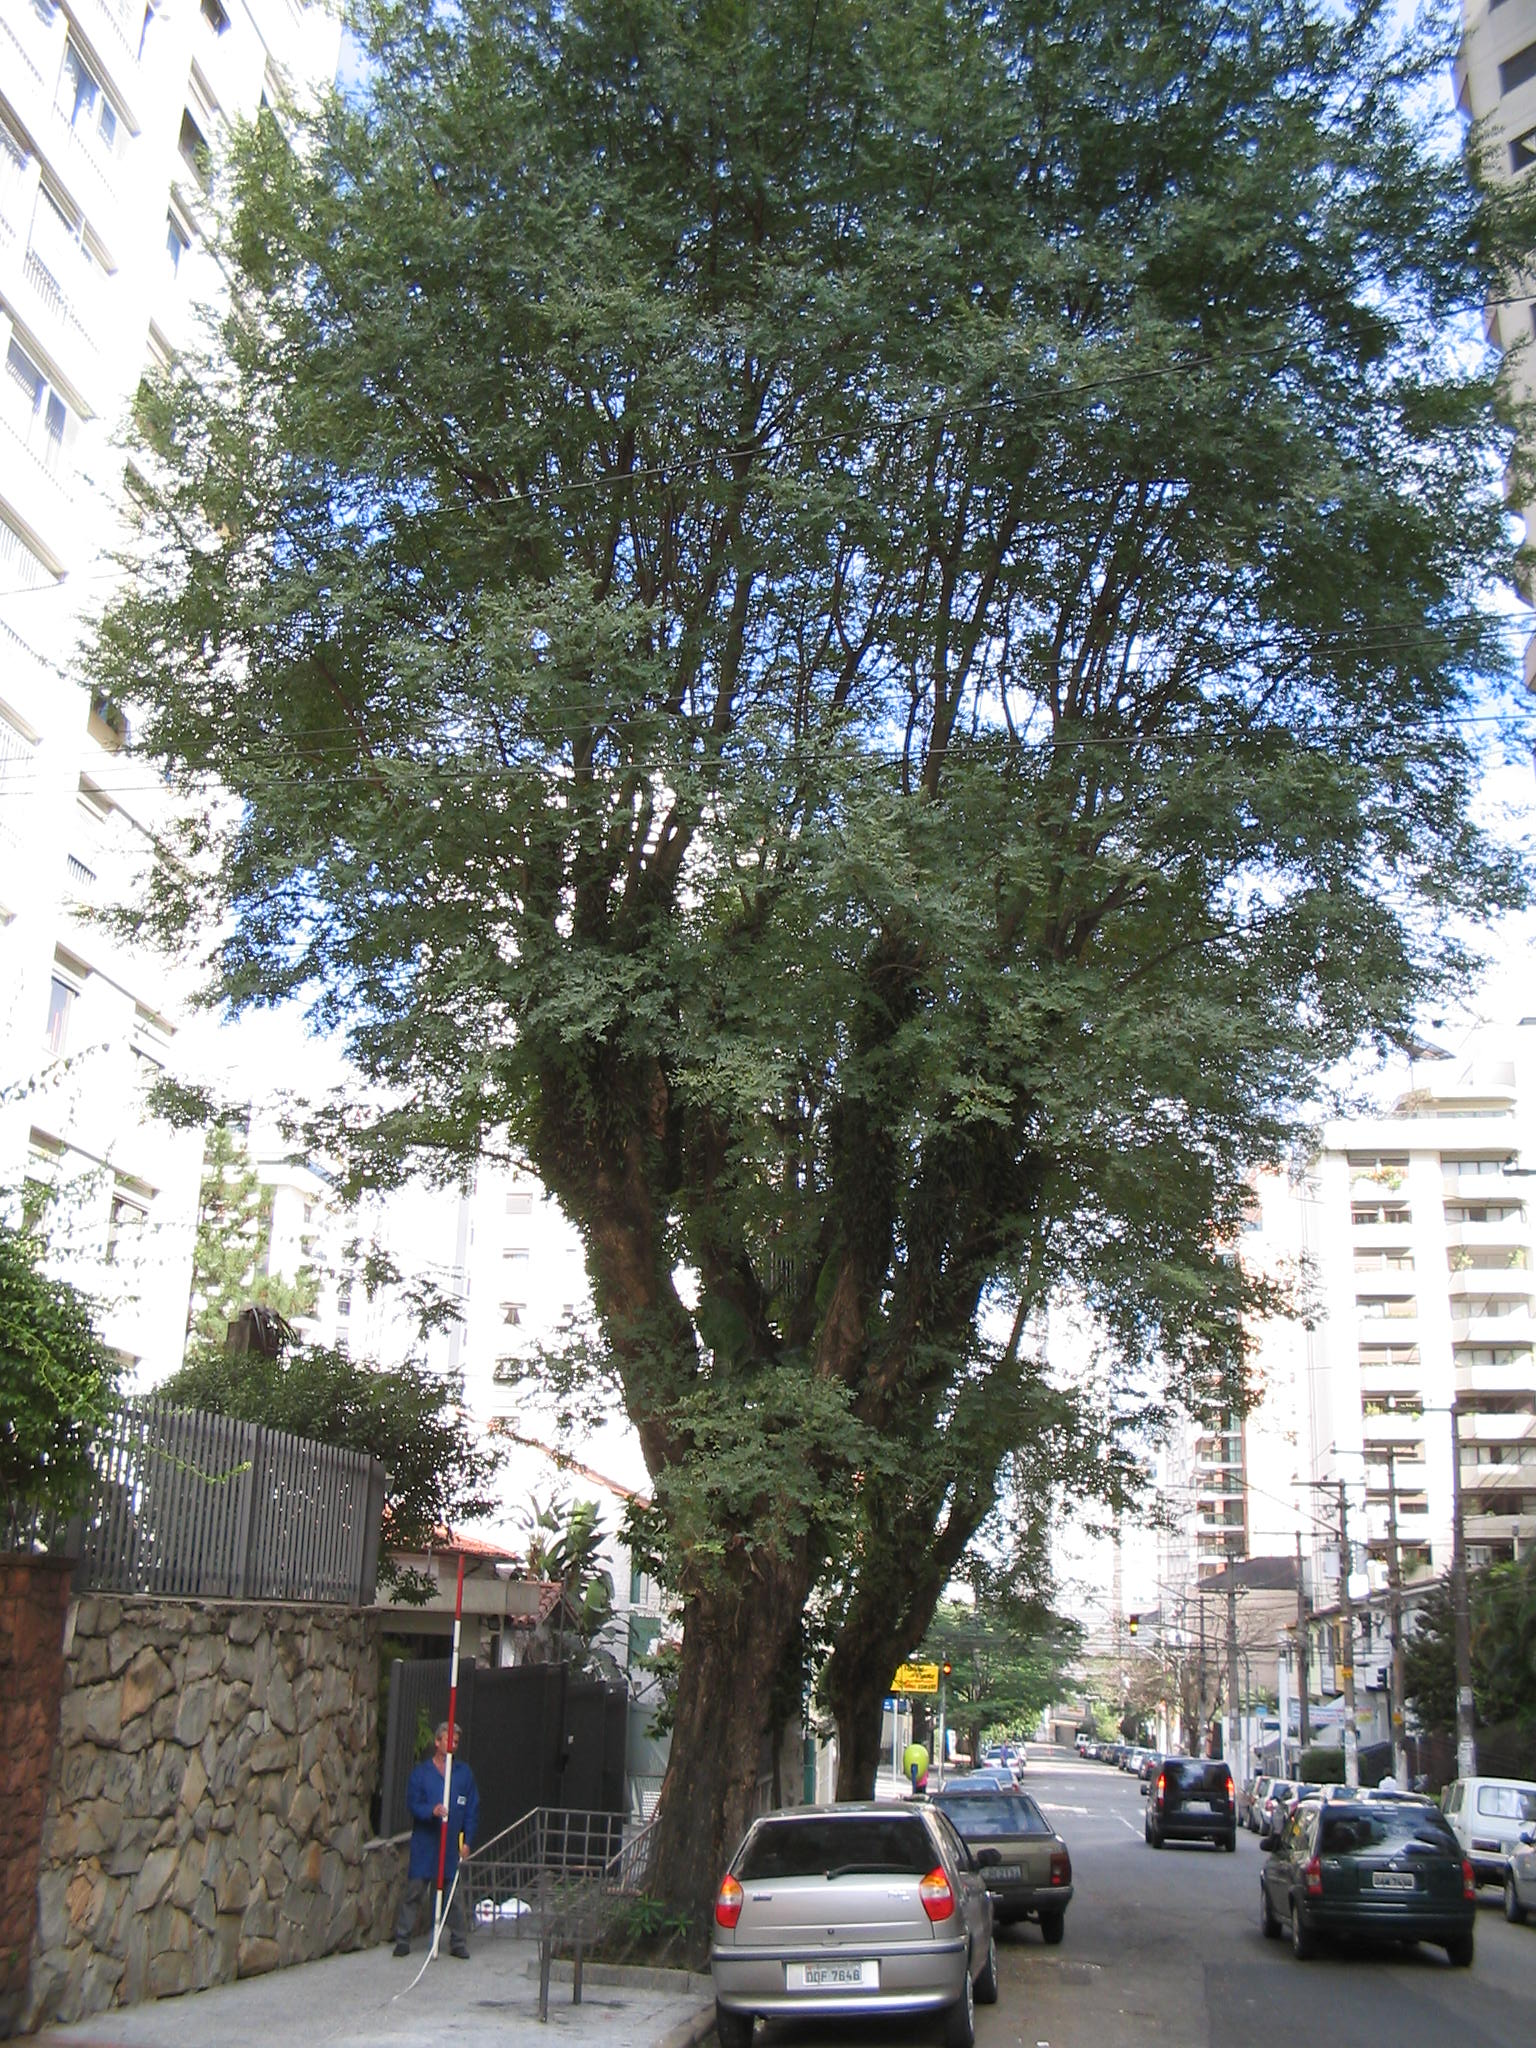crown: (68, 5, 1536, 1401)
stem: (607, 1571, 795, 1954)
stick: (423, 1555, 481, 1958)
tree: (68, 3, 1525, 1958)
